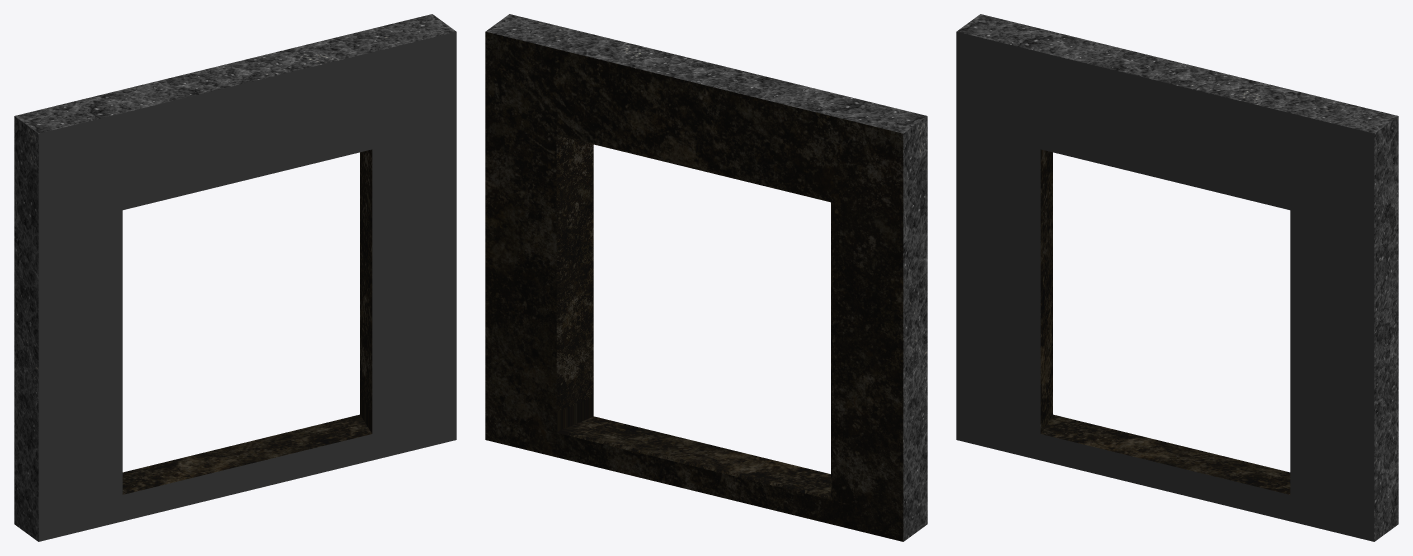
Rendered from SM_WallEnterance01.FBX.
3 renders of one model, left to right at view 1: azimuth 30°, elevation 25°; view 2: azimuth 150°, elevation 25°; view 3: azimuth 330°, elevation 25°, orthographic.
Parts seen in each view (by area): view 1: SM_WallEnterance01_LOD0; view 2: SM_WallEnterance01_LOD0; view 3: SM_WallEnterance01_LOD0.
Part boxes in pixels (left/top/right/bottom): SM_WallEnterance01_LOD0: left=14, top=14, right=456, bottom=541; SM_WallEnterance01_LOD0: left=485, top=14, right=927, bottom=541; SM_WallEnterance01_LOD0: left=956, top=14, right=1398, bottom=541.
Size of the model in its own units: 300 by 30 by 280.
